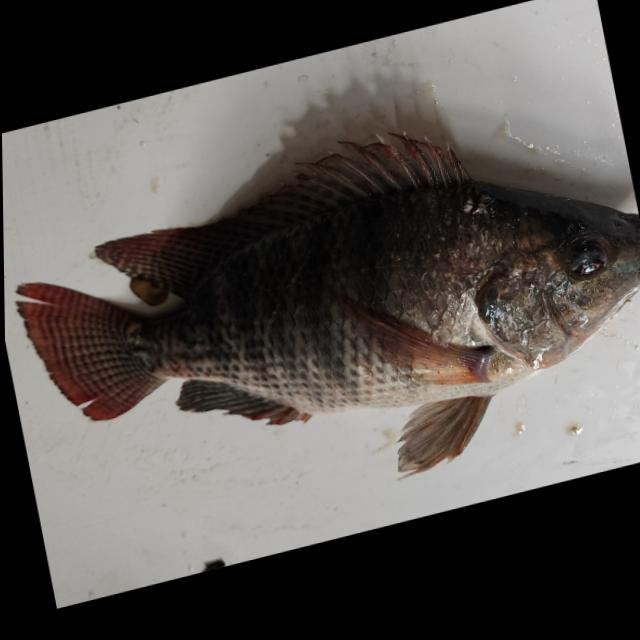Tilapia: (2, 76, 640, 572)
